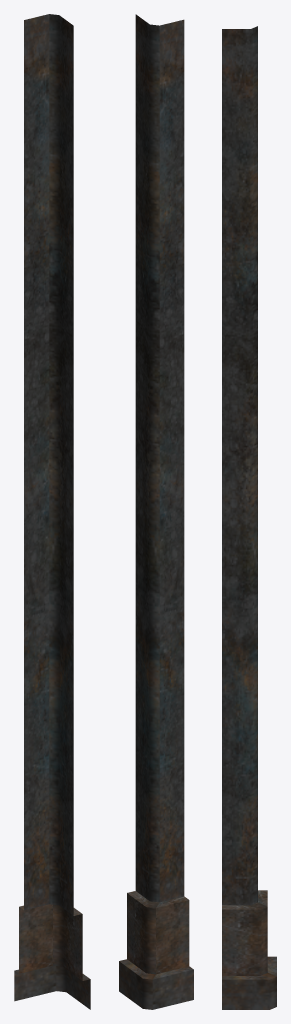
The model's file is Basement_Corridor_C_Wall_Corner.glb.
3 views of the same model, side by side, from view 1: azimuth 30°, elevation 25°; view 2: azimuth 210°, elevation 25°; view 3: azimuth 270°, elevation 25° (orthographic).
Parts seen in each view (by area): view 1: Basement_Corridor_C_Wall_Corner; view 2: Basement_Corridor_C_Wall_Corner; view 3: Basement_Corridor_C_Wall_Corner.
Boxes of the visible parts, <box> form: Basement_Corridor_C_Wall_Corner: <box>14,14,90,1009</box>; Basement_Corridor_C_Wall_Corner: <box>119,14,193,1009</box>; Basement_Corridor_C_Wall_Corner: <box>222,26,276,1009</box>.
Size of the model in its own units: 0.1532 by 3 by 0.1532.
2 materials, 2 textured.
